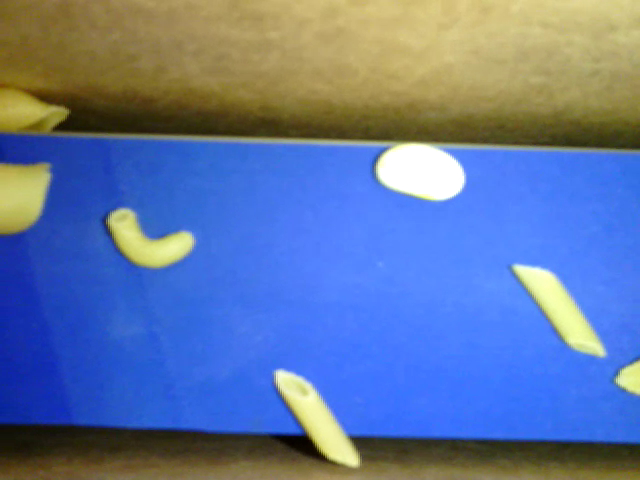elbow: (104, 206, 193, 269)
penne: (504, 264, 604, 358), (272, 368, 361, 467)
shell: (1, 162, 53, 236), (1, 88, 72, 131)
